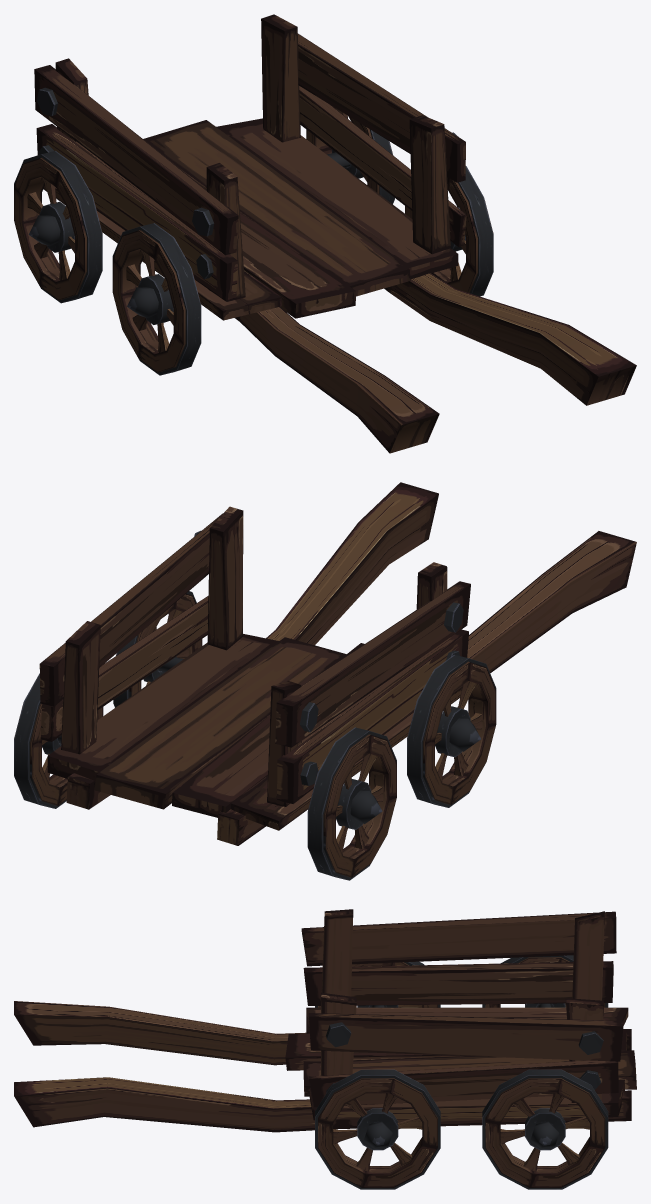
File: SM_PROP_cart_dungeon_02.fbx
3 views of the same model, one above another, from view 1: azimuth 30°, elevation 25°; view 2: azimuth 150°, elevation 25°; view 3: azimuth 270°, elevation 25° (orthographic). The views are drawn at different scales.
Visible parts, largest first — view 1: SM_PROP_cart_dungeon_02, SM_PROP_cart_02_wheel_R_front, SM_PROP_cart_02_wheel_R_back, SM_PROP_cart_02_wheel_L_front, SM_PROP_cart_02_wheel_L_back; view 2: SM_PROP_cart_dungeon_02, SM_PROP_cart_02_wheel_R_back, SM_PROP_cart_02_wheel_R_front, SM_PROP_cart_02_wheel_L_back, SM_PROP_cart_02_wheel_L_front; view 3: SM_PROP_cart_dungeon_02, SM_PROP_cart_02_wheel_L_back, SM_PROP_cart_02_wheel_L_front, SM_PROP_cart_02_wheel_R_back, SM_PROP_cart_02_wheel_R_front.
Part boxes in pixels (box(x1,y1,x2,y2)): SM_PROP_cart_dungeon_02: box(28, 14, 636, 453); SM_PROP_cart_02_wheel_R_front: box(112, 223, 201, 375); SM_PROP_cart_02_wheel_R_back: box(14, 151, 102, 303); SM_PROP_cart_02_wheel_L_front: box(405, 166, 493, 296); SM_PROP_cart_02_wheel_L_back: box(306, 106, 394, 204); SM_PROP_cart_dungeon_02: box(39, 482, 636, 845); SM_PROP_cart_02_wheel_R_back: box(307, 727, 396, 880); SM_PROP_cart_02_wheel_R_front: box(407, 655, 496, 807); SM_PROP_cart_02_wheel_L_back: box(14, 673, 103, 808); SM_PROP_cart_02_wheel_L_front: box(113, 591, 202, 707); SM_PROP_cart_dungeon_02: box(14, 909, 636, 1148); SM_PROP_cart_02_wheel_L_back: box(482, 1069, 608, 1189); SM_PROP_cart_02_wheel_L_front: box(315, 1069, 440, 1189); SM_PROP_cart_02_wheel_R_back: box(482, 955, 608, 1007); SM_PROP_cart_02_wheel_R_front: box(315, 961, 440, 1007).
Bounding box in the file's own units: 278 × 153 × 499.
